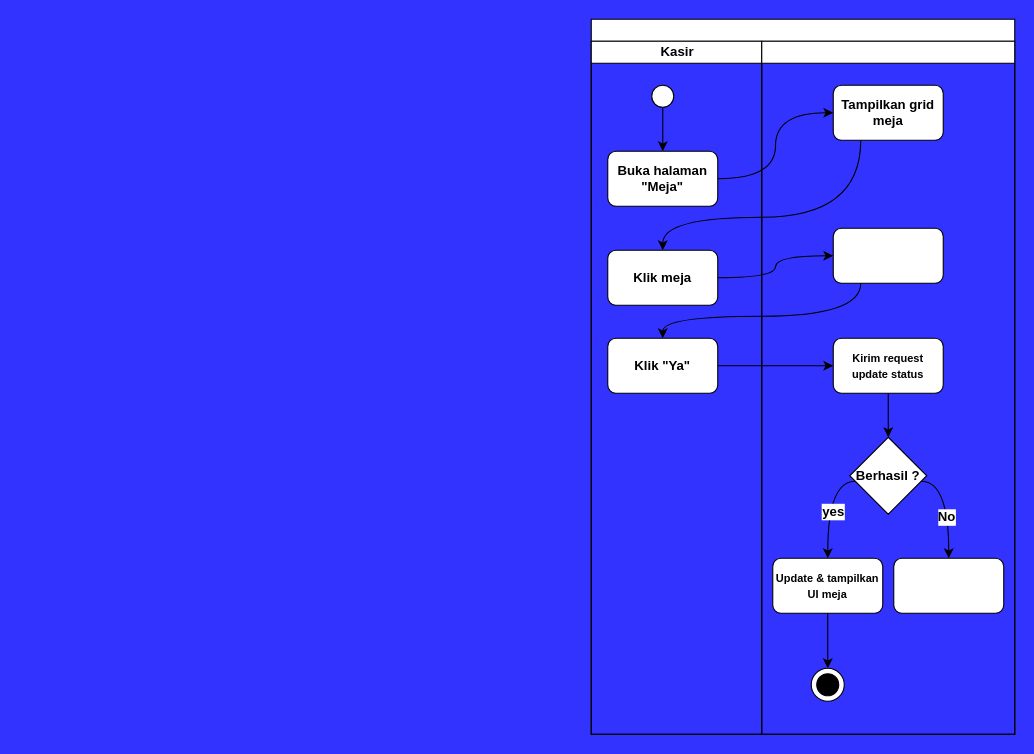
Image size: 1034x754. Some labels were removed from this diagram. The box of each missing label's shape, as (x1, y1, x2, y2) in pixels:
Sistem: (761, 40, 1015, 734)
Tampilkan Dialog "Tandai meja ini sebagai TERISI?": (832, 227, 943, 283)
Tampilkan pesan error: (893, 557, 1004, 613)
Ubah Status Meja: (590, 18, 1015, 734)
